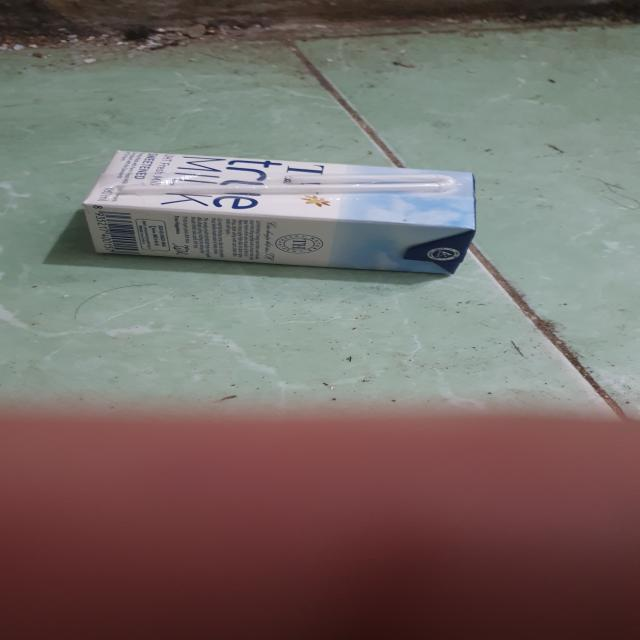TH: (77, 147, 485, 281)
